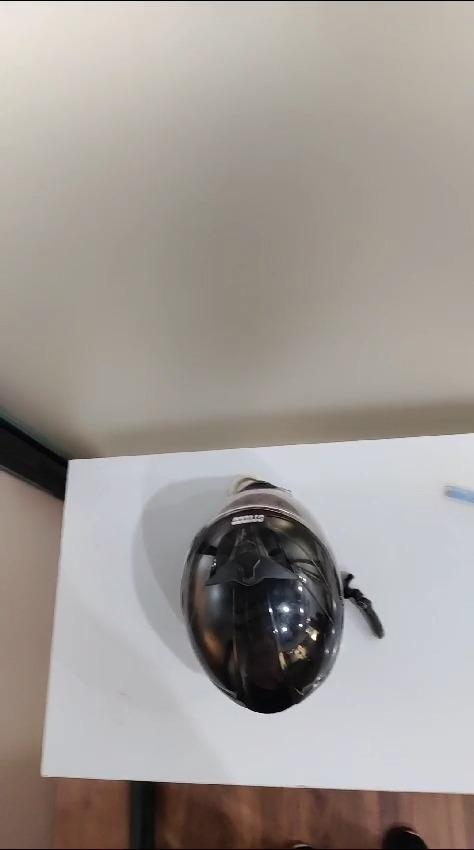Helmet: (181, 478, 383, 711)
